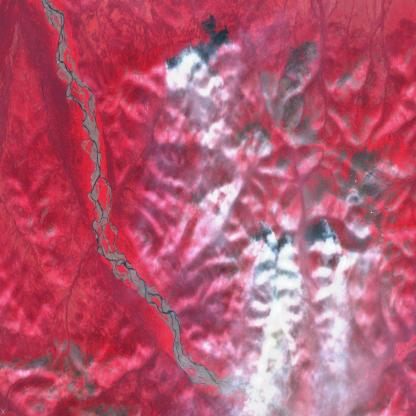fire: (247, 221, 344, 310), (161, 36, 211, 84)
